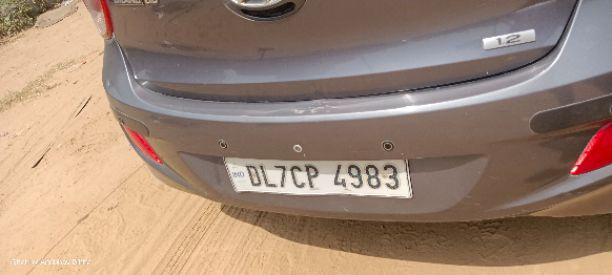license_plate: (81, 0, 611, 224), (222, 155, 413, 198)
